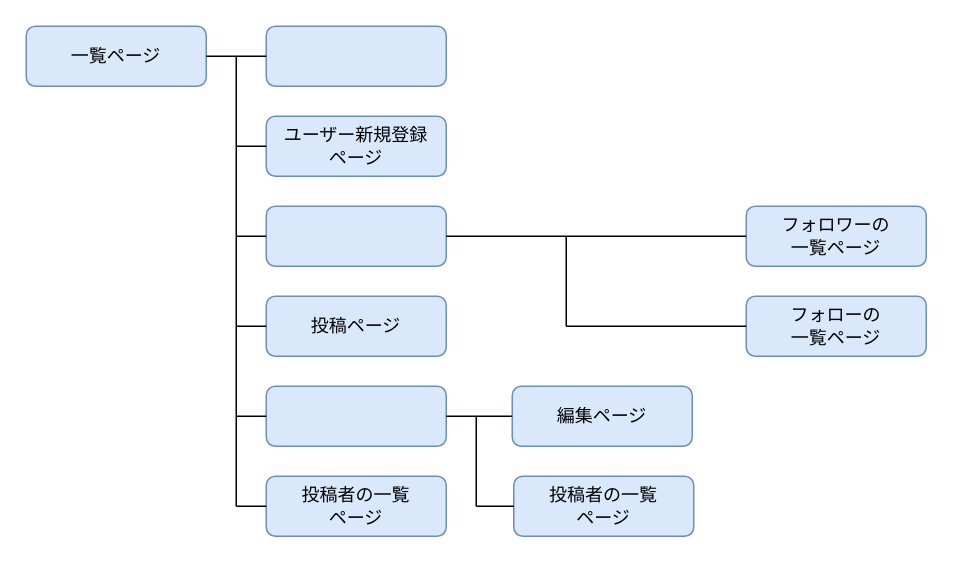
The diagram is 953 pixels wide and 563 high, and some of its shapes have lost their labels. The box of each missing label's shape, as (x1, y1, x2, y2) in pixels:
ユーザーマイ ページ: (265, 205, 446, 266)
ユーザーログイン ページ: (265, 25, 446, 86)
詳細ページ: (265, 385, 446, 446)
